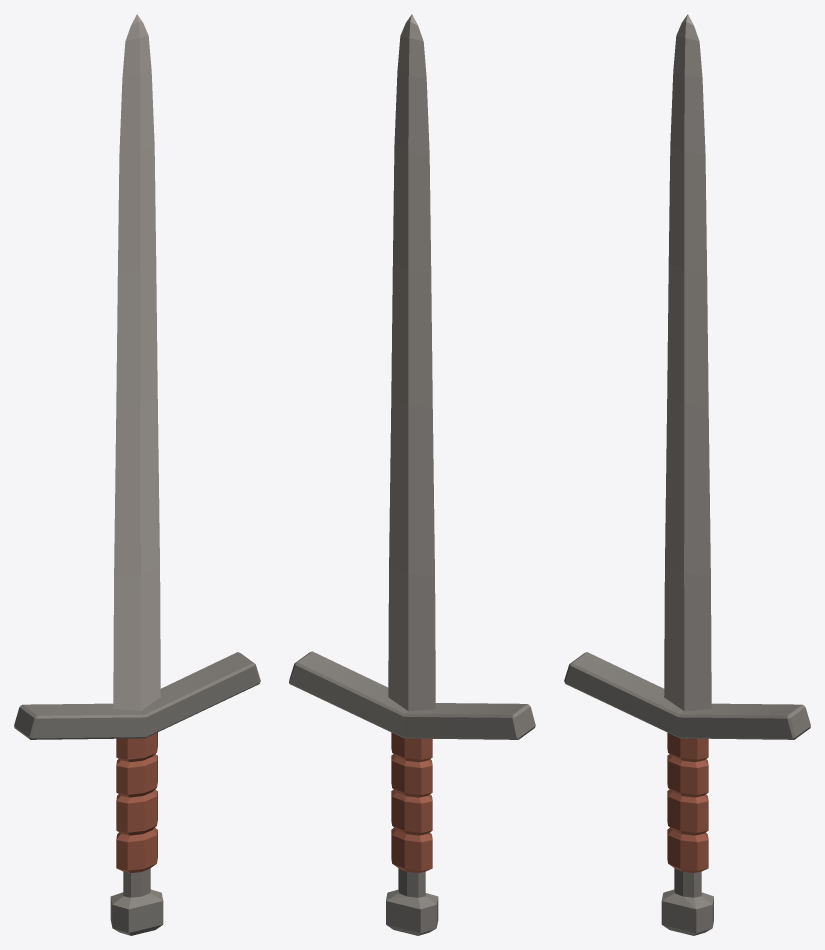
The model's file is SM_pwe_fantasy_sword_03.fbx.
The picture shows the model from 3 angles, left to right: view 1: azimuth 30°, elevation 25°; view 2: azimuth 150°, elevation 25°; view 3: azimuth 330°, elevation 25°; orthographic projection.
Visible parts, largest first — view 1: SM_pwe_fantasy_sword_03; view 2: SM_pwe_fantasy_sword_03; view 3: SM_pwe_fantasy_sword_03.
Boxes of the visible parts, x1,y1,x2,y2 form: SM_pwe_fantasy_sword_03: (14,14,260,935); SM_pwe_fantasy_sword_03: (289,14,535,935); SM_pwe_fantasy_sword_03: (564,14,810,935).
Size of the model in its own units: 27.63 by 104 by 3.76.
